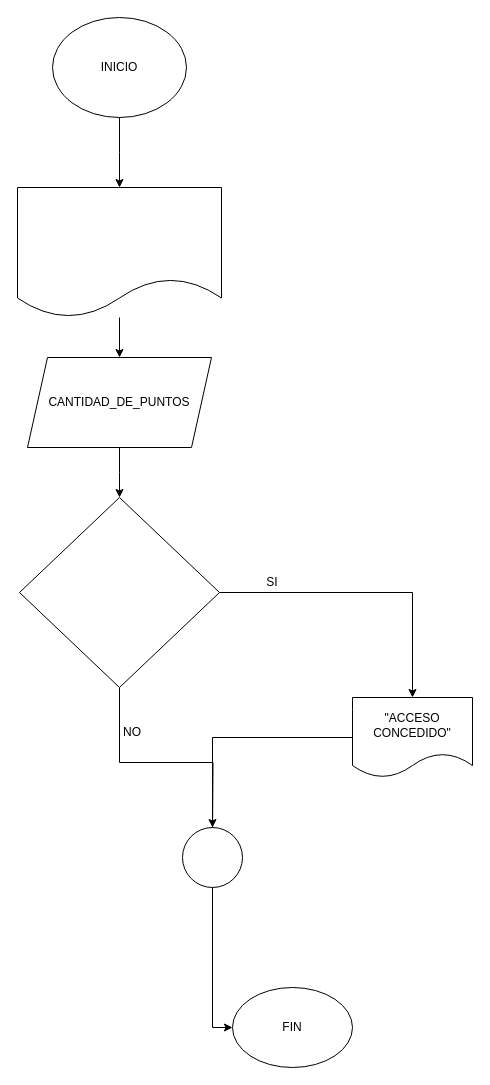
This 490x1085 diagram has some shape labels left out. The box of each missing label's shape, as (x1, y1, x2, y2) in pixels:
"iNGRESE CANTIDAD DE PUNTOS": (16, 186, 222, 318)
CANTIDAD_DE_PUNTOS>1000: (18, 496, 220, 688)
